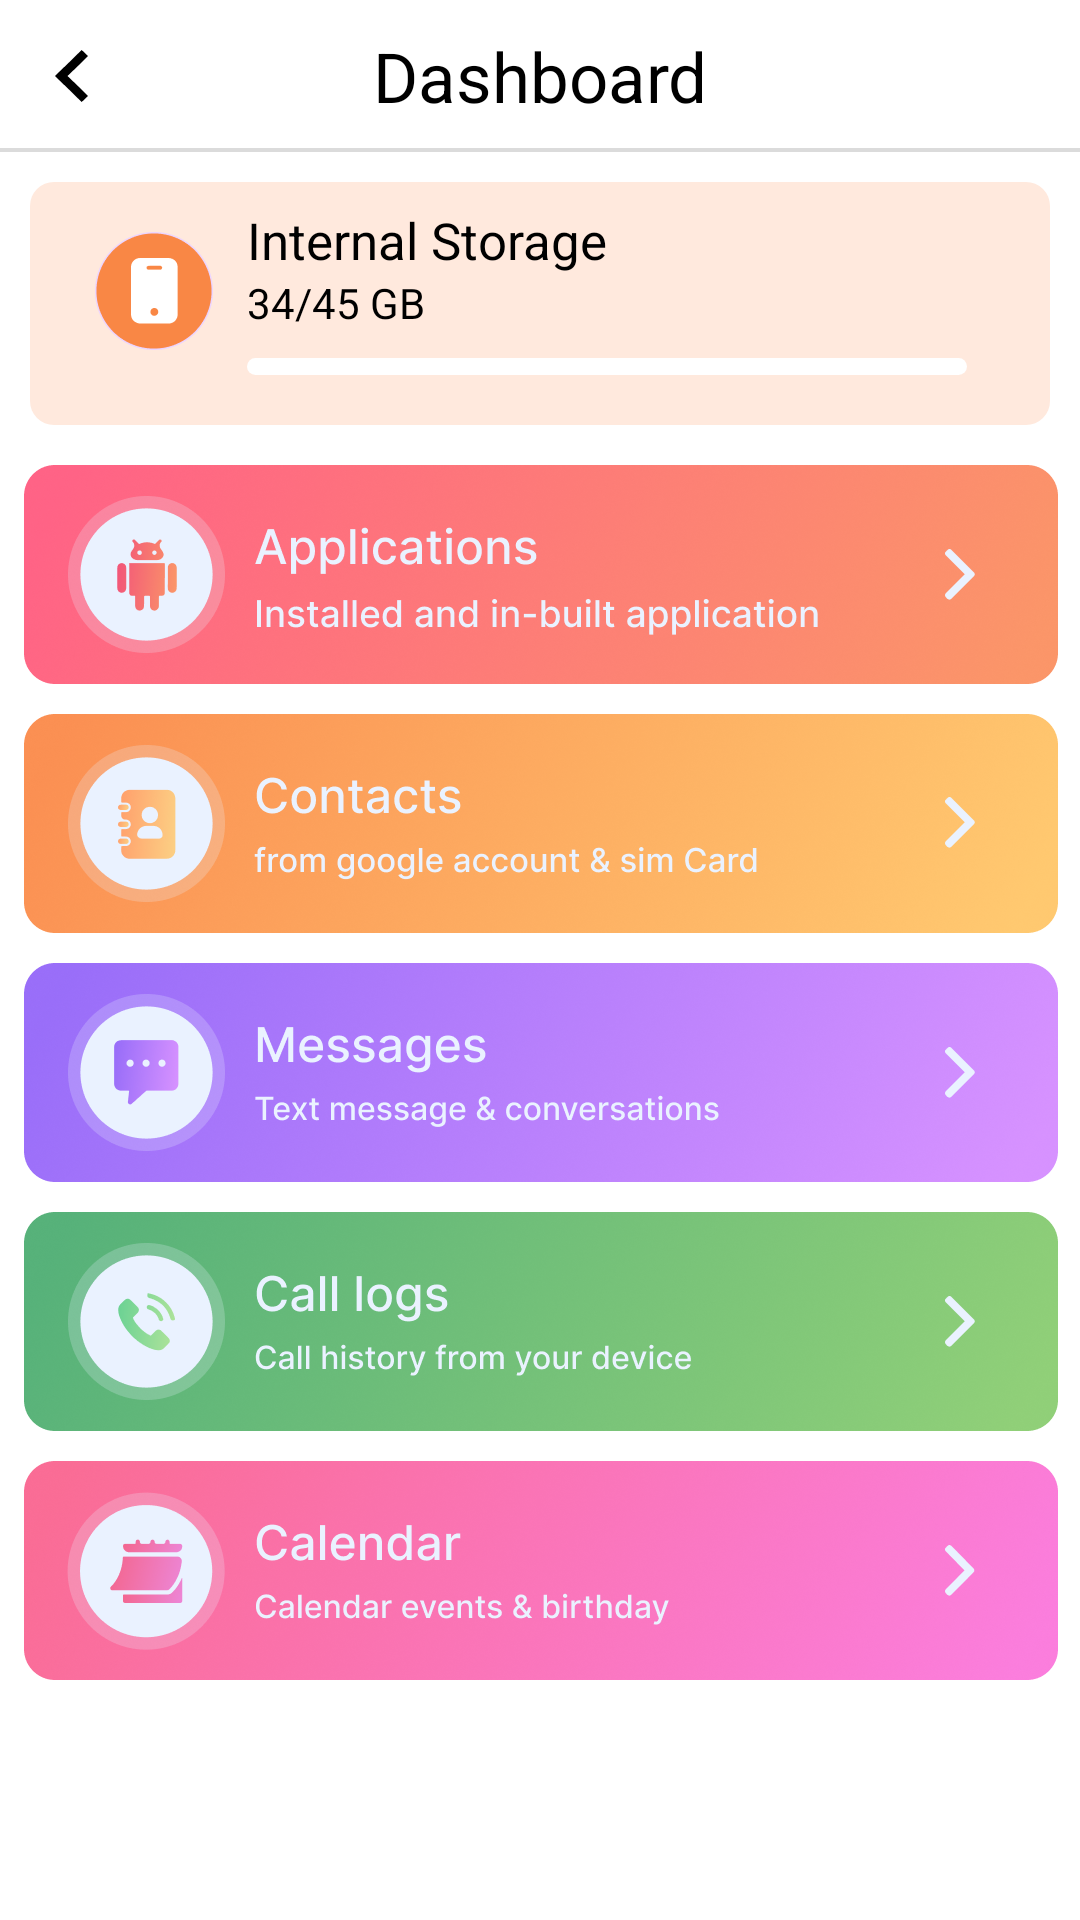

Where to tap for icons on this 1080 × 1920 app screen, as (x,y):
mobile: (154,291)
